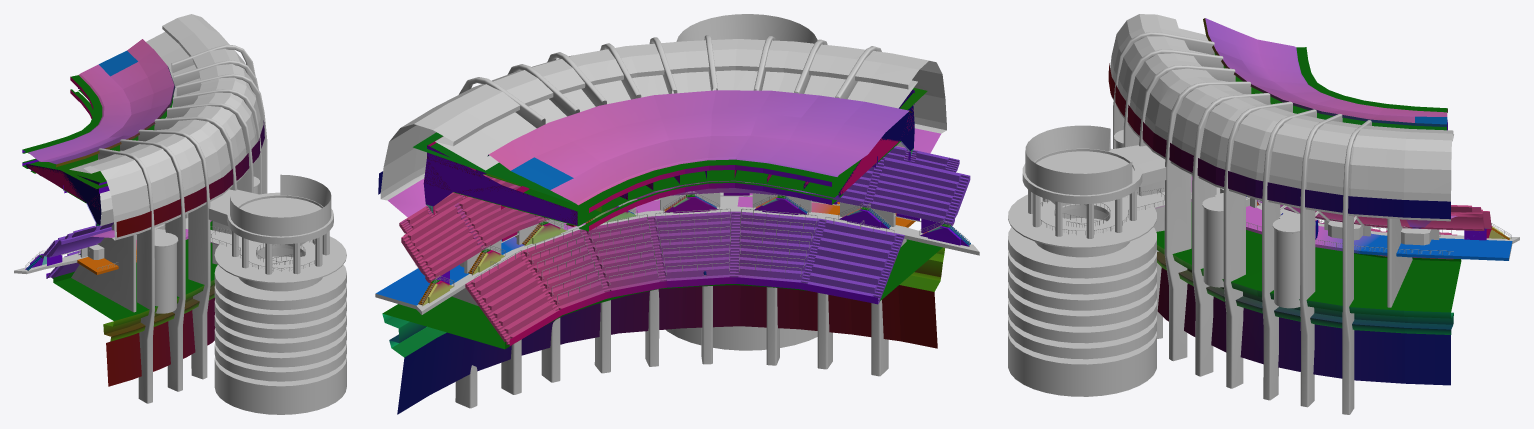
File: Bernabeu_esquina.FBX
The picture shows the model from 3 angles, left to right: view 1: azimuth 30°, elevation 25°; view 2: azimuth 150°, elevation 25°; view 3: azimuth 270°, elevation 25°; orthographic projection. The views are drawn at different scales.
Visible parts, largest first — view 1: structureExt_, truss_, emergency_stairs, bleachers_, railing_, stairs_, palcosVIP; view 2: structureExt_, bleachers_, truss_, stairs_, railing_, tour_, palcosVIP; view 3: structureExt_, truss_, emergency_stairs, bleachers_, palcosVIP, railing_.
Part boxes in pixels (box(x1,y1,x2,y2)): structureExt_: box(14, 14, 346, 414); truss_: box(26, 88, 331, 237); emergency_stairs: box(154, 176, 259, 313); bleachers_: box(49, 222, 113, 278); railing_: box(25, 226, 314, 271); stairs_: box(26, 225, 103, 278); palcosVIP: box(80, 213, 188, 259); structureExt_: box(375, 35, 979, 414); bleachers_: box(403, 146, 961, 338); truss_: box(378, 14, 914, 226); stairs_: box(399, 150, 970, 344); railing_: box(415, 182, 969, 305); tour_: box(422, 193, 969, 305); palcosVIP: box(436, 193, 895, 283); structureExt_: box(1008, 14, 1519, 414); truss_: box(1025, 63, 1450, 219); emergency_stairs: box(1114, 130, 1300, 308); bleachers_: box(1257, 200, 1484, 259); palcosVIP: box(1191, 175, 1486, 245); railing_: box(1040, 187, 1511, 254).
Size of what is drawn, in the model's own units: 8638 by 6205 by 10715.
